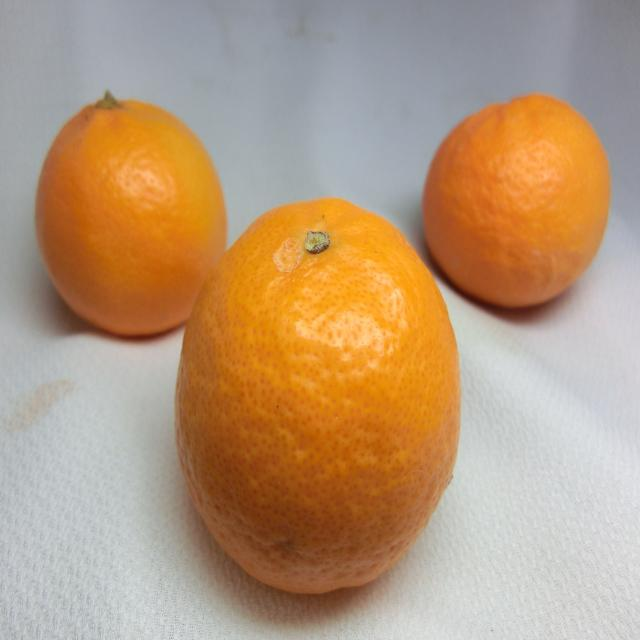Orange: (178, 196, 466, 594), (35, 90, 227, 338), (420, 95, 615, 311)
